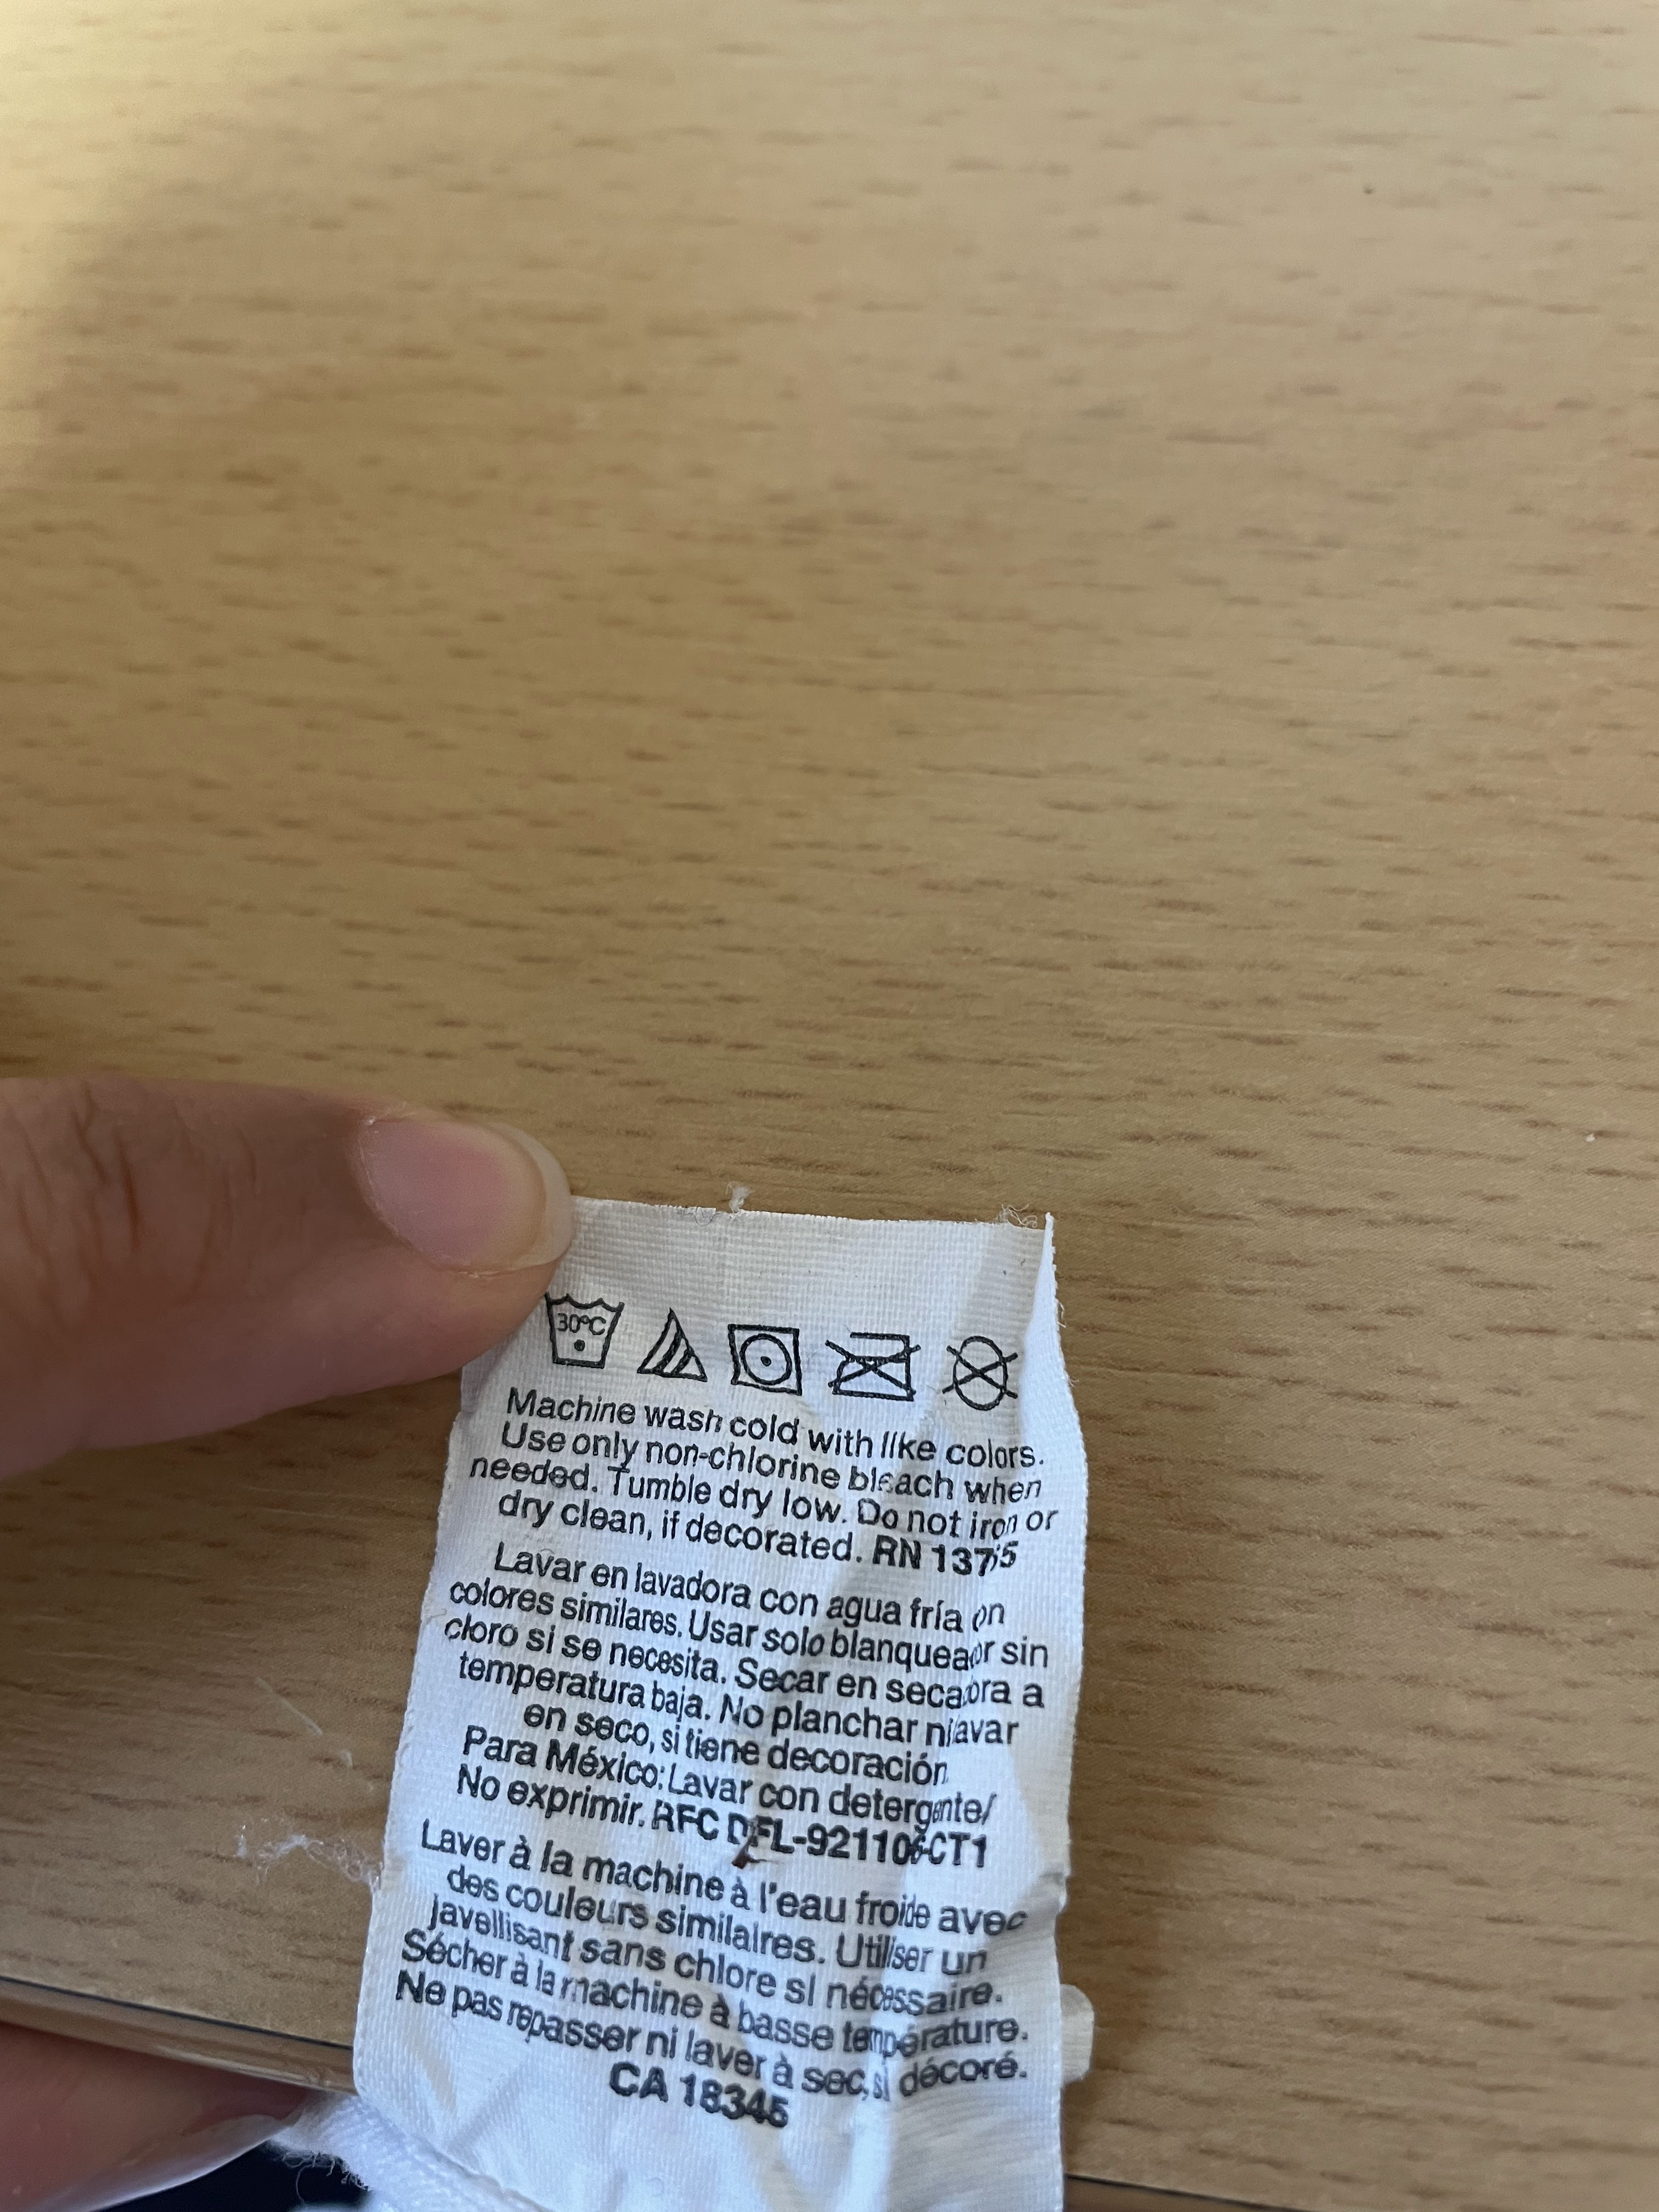bleach: (640, 1301, 716, 1399)
do not dry clean: (931, 1317, 1053, 1430)
do not iron: (826, 1315, 931, 1420)
tumble dry low temp: (714, 1308, 816, 1409)
wash at or below 30: (547, 1296, 633, 1378)
